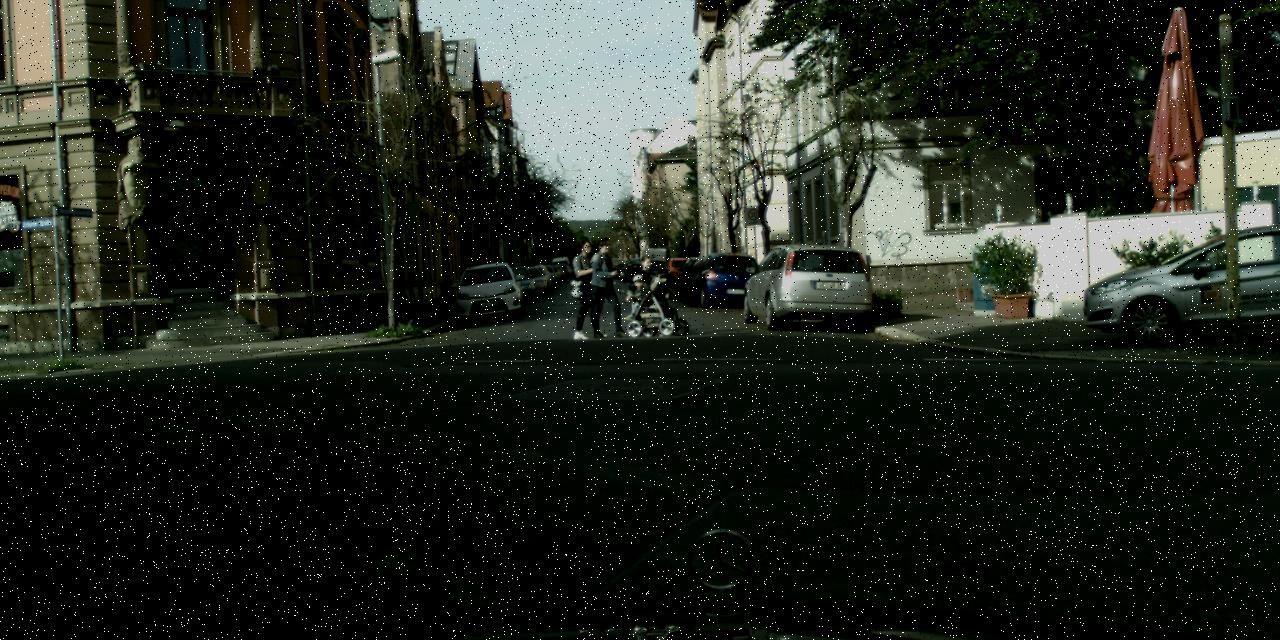ped: (569, 238, 609, 336), (586, 238, 626, 336), (634, 255, 664, 329)
